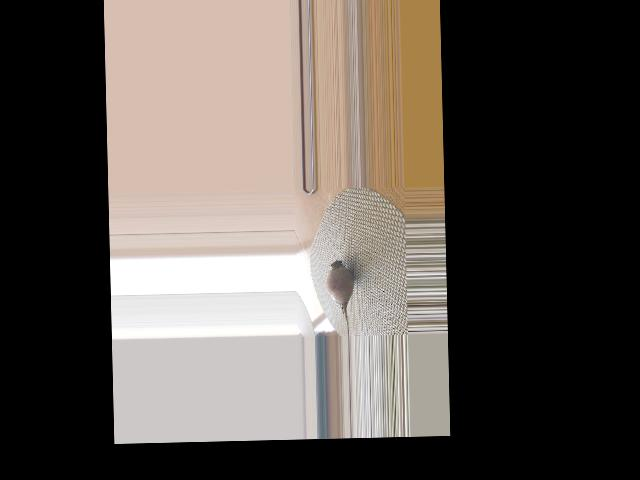beet: (326, 259, 354, 336)
